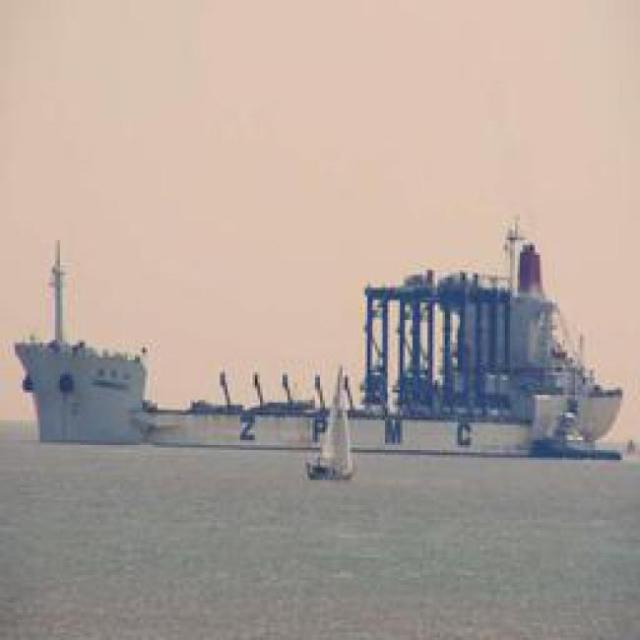boat: (23, 234, 625, 474)
